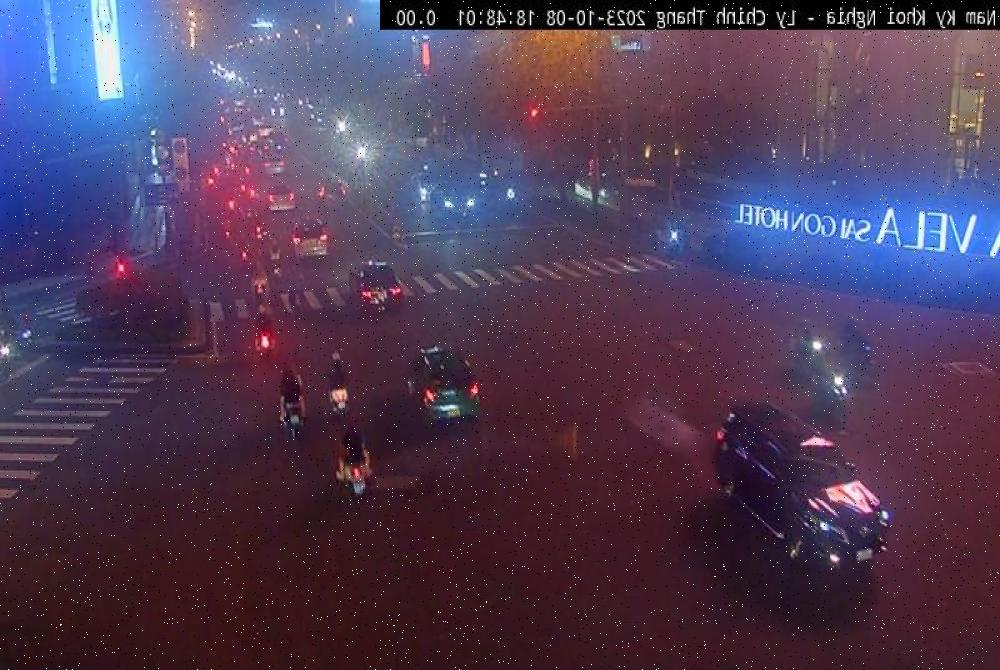car: (712, 399, 888, 569), (406, 346, 482, 428), (346, 258, 402, 316)
